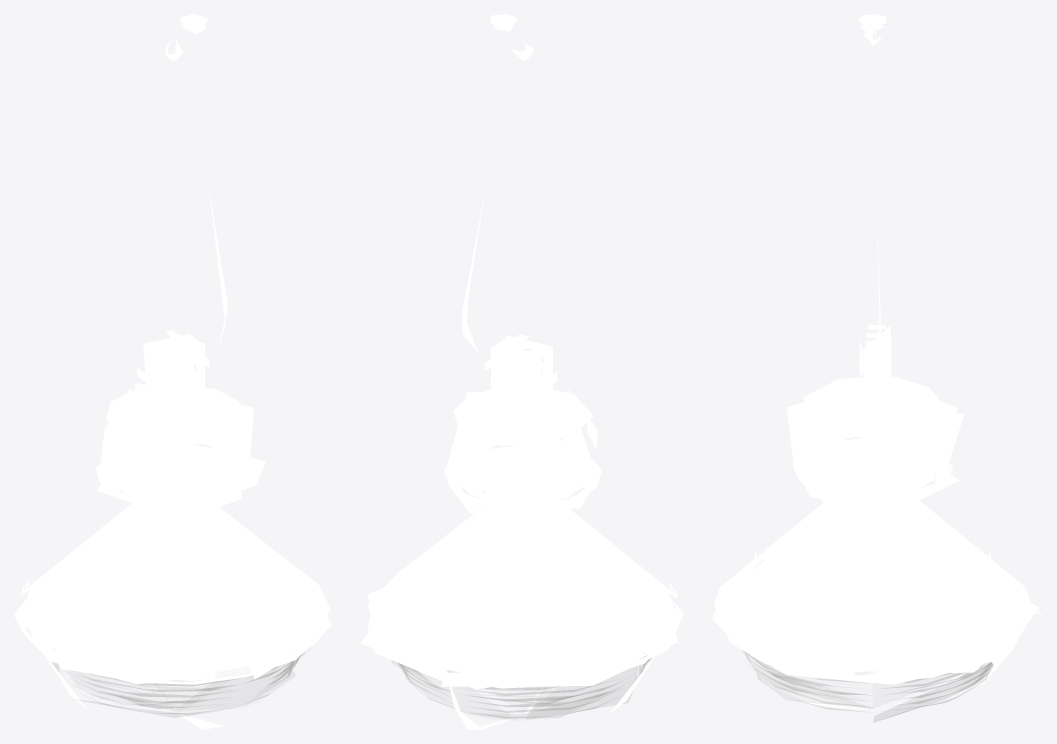
File: hang_lamp.glb
The picture shows the model from 3 angles, left to right: view 1: azimuth 30°, elevation 25°; view 2: azimuth 150°, elevation 25°; view 3: azimuth 270°, elevation 25°; orthographic projection.
Parts seen in each view (by area): view 1: hanging_industrial_lamp; view 2: hanging_industrial_lamp; view 3: hanging_industrial_lamp.
Boxes of the visible parts, <box> form: hanging_industrial_lamp: <box>14,14,331,729</box>; hanging_industrial_lamp: <box>360,14,683,729</box>; hanging_industrial_lamp: <box>712,14,1042,725</box>.
Bounding box in the file's own units: 0.5538 × 1.35 × 0.5735.
2 materials, 1 textured.
